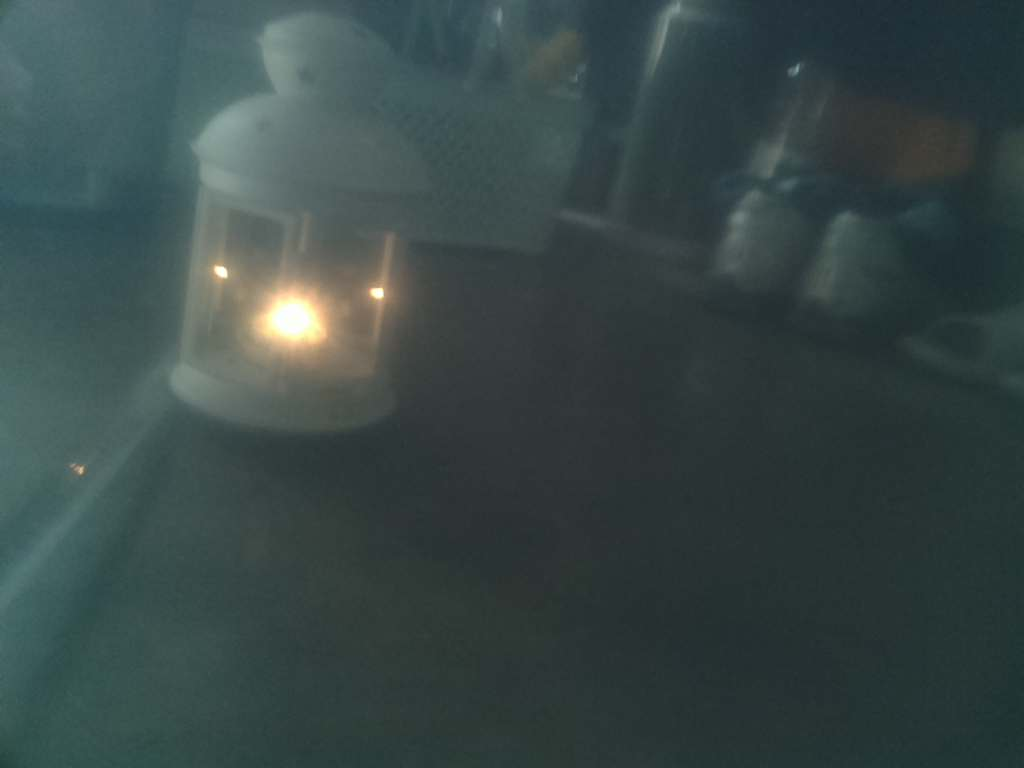fire: (241, 283, 347, 366)
